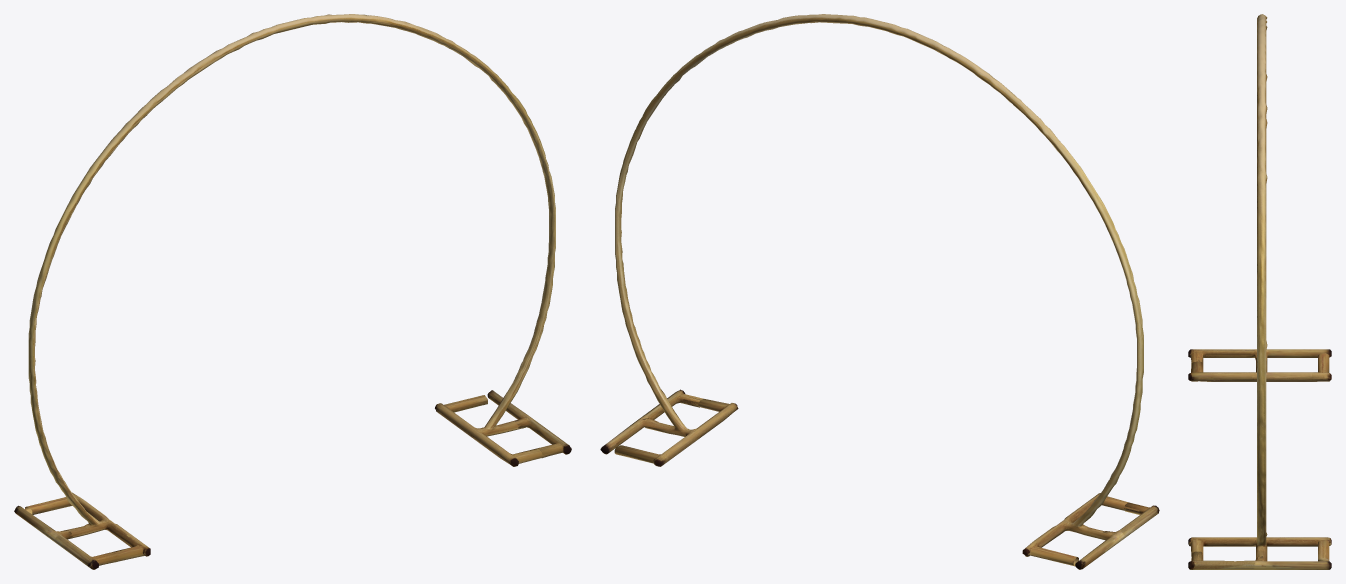
File: Gold_Moon_Arch_0308225812_texture.glb
3 renders of one model, left to right at view 1: azimuth 30°, elevation 25°; view 2: azimuth 150°, elevation 25°; view 3: azimuth 270°, elevation 25°, orthographic. The views are drawn at different scales.
Parts seen in each view (by area): view 1: Mesh_0.003; view 2: Mesh_0.003; view 3: Mesh_0.003.
Boxes of the visible parts, x1,y1,x2,y2 form: Mesh_0.003: (14,14,571,569); Mesh_0.003: (600,14,1159,569); Mesh_0.003: (1188,14,1331,569).
Size of the model in its own units: 2.54 by 2.13 by 0.6521.
1 material, 1 textured.
